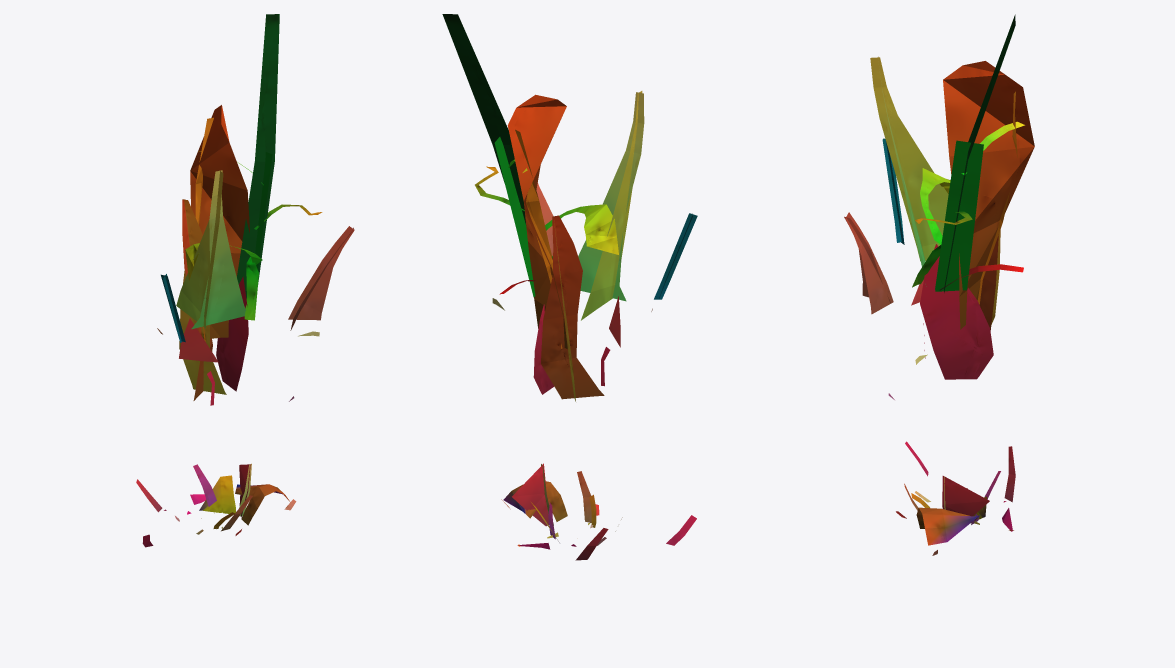
The picture shows the model from 3 angles, left to right: view 1: azimuth 30°, elevation 25°; view 2: azimuth 150°, elevation 25°; view 3: azimuth 270°, elevation 25°; orthographic projection. The views are drawn at different scales.
Visible parts, largest first — view 1: SM_tbbqejqr_VarA, SM_tbbqejqr_VarB, SM_tbbqejqr_VarC, SM_tbbqejqr_VarD; view 2: SM_tbbqejqr_VarA, SM_tbbqejqr_VarC, SM_tbbqejqr_VarB, SM_tbbqejqr_VarD; view 3: SM_tbbqejqr_VarA, SM_tbbqejqr_VarB, SM_tbbqejqr_VarC, SM_tbbqejqr_VarD.
Boxes of the visible parts, left/top/right/bottom form: SM_tbbqejqr_VarA: left=157, top=14, right=354, bottom=342; SM_tbbqejqr_VarB: left=179, top=105, right=319, bottom=362; SM_tbbqejqr_VarC: left=179, top=199, right=294, bottom=405; SM_tbbqejqr_VarD: left=136, top=463, right=296, bottom=547; SM_tbbqejqr_VarA: left=442, top=14, right=697, bottom=320; SM_tbbqejqr_VarC: left=533, top=215, right=610, bottom=401; SM_tbbqejqr_VarB: left=492, top=94, right=620, bottom=348; SM_tbbqejqr_VarD: left=501, top=463, right=696, bottom=560; SM_tbbqejqr_VarA: left=844, top=14, right=1024, bottom=314; SM_tbbqejqr_VarB: left=911, top=61, right=1034, bottom=364; SM_tbbqejqr_VarC: left=888, top=229, right=1000, bottom=399; SM_tbbqejqr_VarD: left=896, top=441, right=1015, bottom=555.
Size of what is drawn, in the model's own units: 0.3535 by 0.6886 by 0.3845.
1 material, 1 textured.
